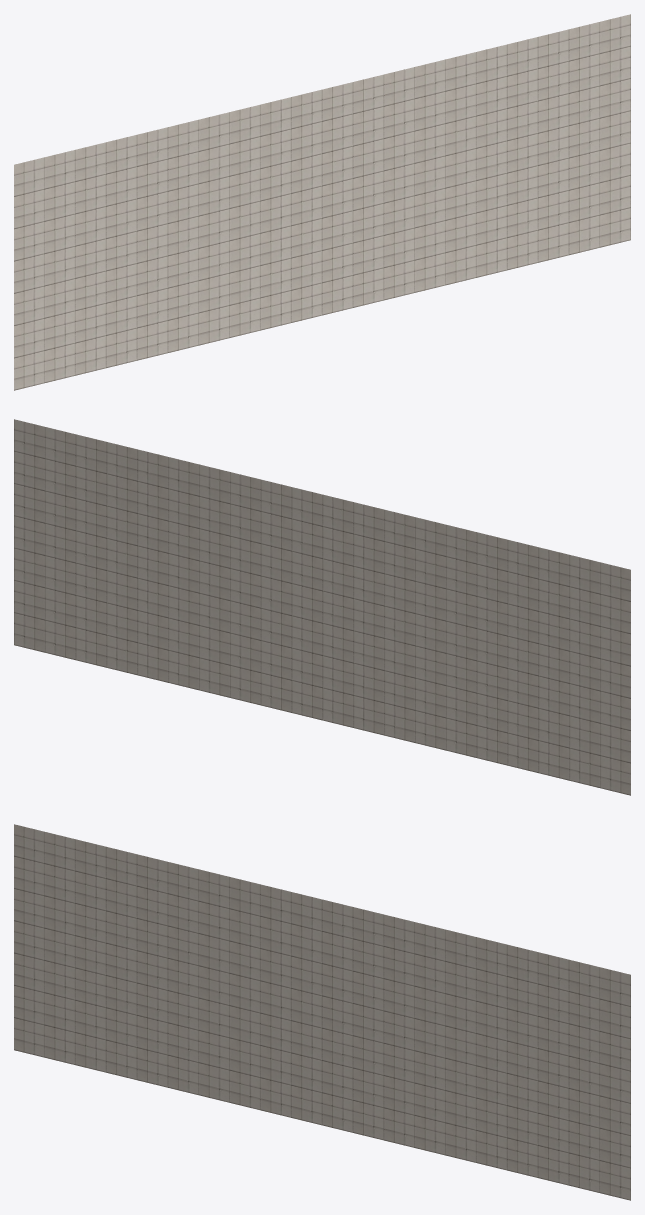
The model's file is wallDevider.glb.
3 views of the same model, one above another, from view 1: azimuth 30°, elevation 25°; view 2: azimuth 150°, elevation 25°; view 3: azimuth 330°, elevation 25° (orthographic).
Visible parts, largest first — view 1: LQ; view 2: LQ; view 3: LQ.
Boxes of the visible parts, x1,y1,x2,y2 form: LQ: (14,14,630,390); LQ: (14,419,630,795); LQ: (14,824,630,1200).
Bounding box in the file's own units: 9.73 × 3.41 × 8.88e-16.
Materials: 1 (1 with a texture image).
